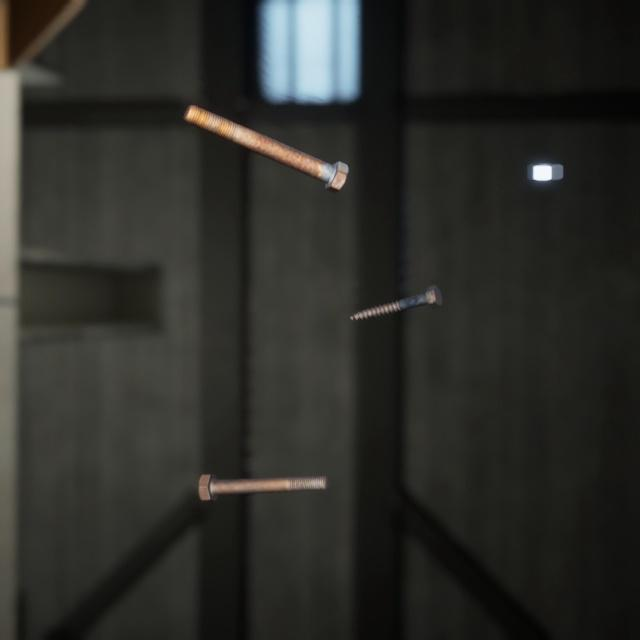bolt: (179, 86, 352, 183), (193, 448, 333, 484), (345, 263, 447, 308)
